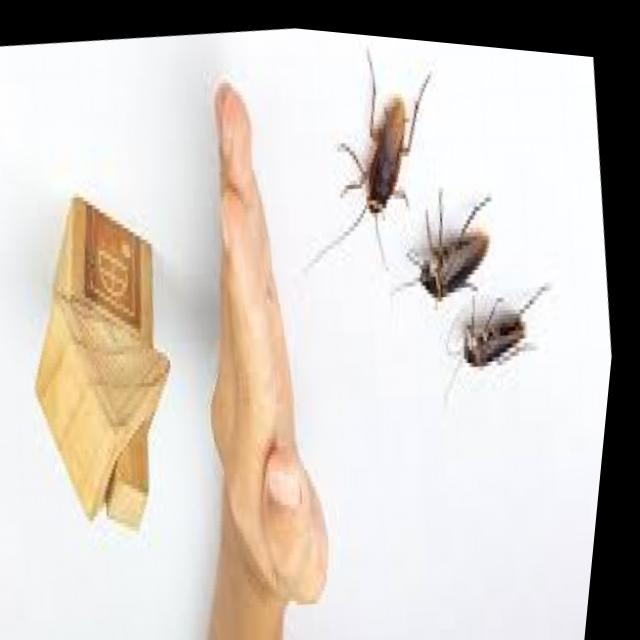Cockroach: (282, 34, 467, 300), (410, 226, 594, 418), (388, 118, 525, 322)
